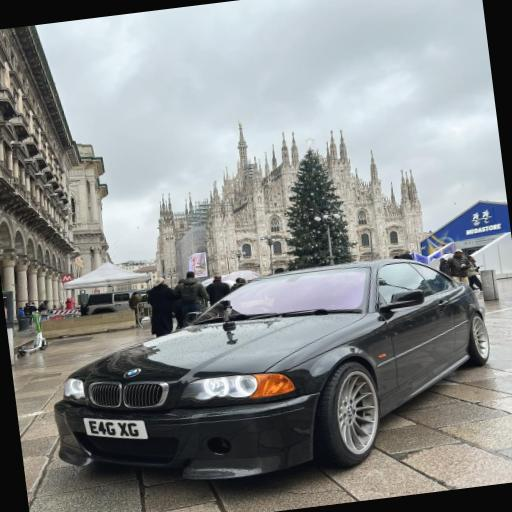numberplates: (85, 419, 147, 439)
